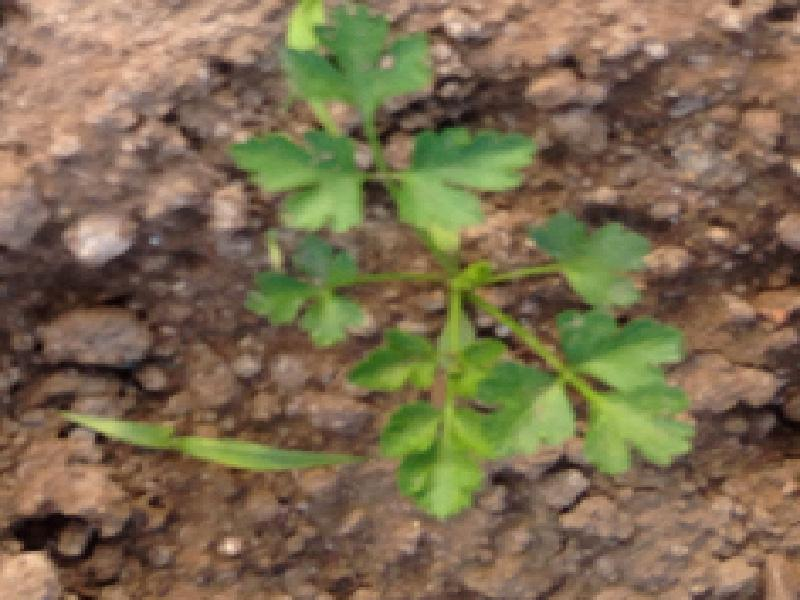radish: (226, 4, 696, 520)
